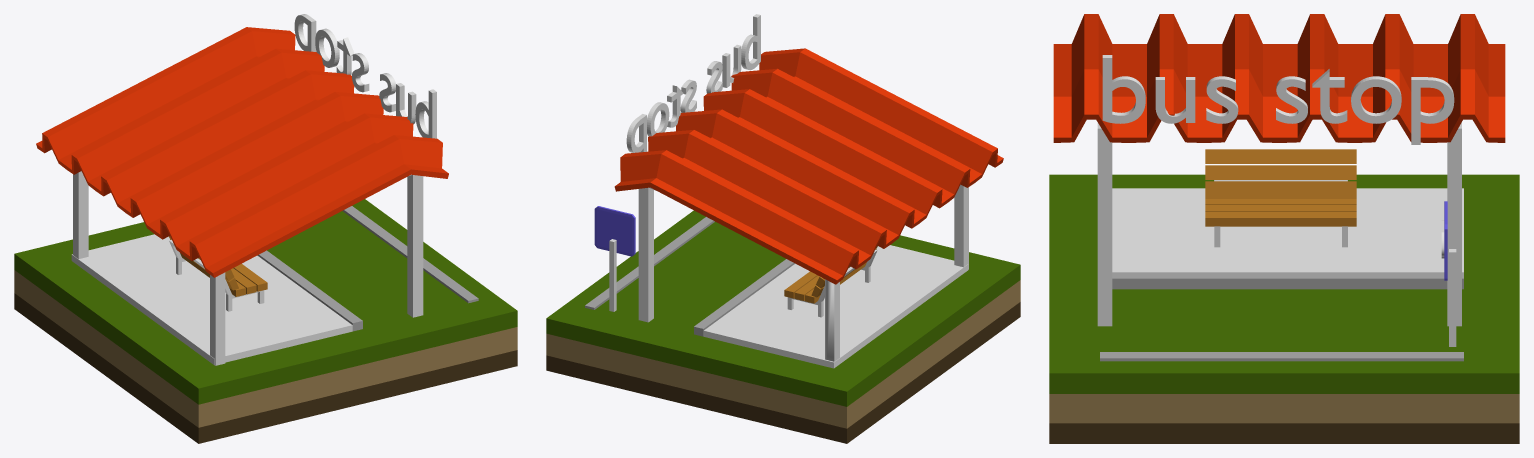
Rendered from BusStopPrefab.fbx.
The picture shows the model from 3 angles, left to right: view 1: azimuth 30°, elevation 25°; view 2: azimuth 150°, elevation 25°; view 3: azimuth 270°, elevation 25°; orthographic projection. The views are drawn at different scales.
Visible parts, largest first — view 1: Cube.077, bus stop ground, Cube.088, Cube.087, bus stop FONT, Cube.092, Cube.089, Cube.093, Cube.095; view 2: Cube.077, bus stop ground, Cube.088, Cube.087, bus stop FONT, Cube.091, Cube.092, Cube.089, Cube.093, Cube.090, Cube.095; view 3: bus stop ground, Cube.077, Cube.088, bus stop FONT, Cube.094, Cube.089, Cube.087, Cube.093, Cube.092, Cube.090, Cube.095.
Boxes of the visible parts, box(x1,y1,x2,y2) form: Cube.077: box(36, 27, 448, 277); bus stop ground: box(14, 199, 517, 443); Cube.088: box(71, 234, 352, 365); Cube.087: box(73, 171, 423, 365); bus stop FONT: box(294, 14, 436, 138); Cube.092: box(342, 206, 478, 303); Cube.089: box(257, 250, 362, 331); Cube.093: box(180, 253, 267, 296); Cube.095: box(169, 240, 264, 311); Cube.077: box(614, 48, 1003, 284); bus stop ground: box(546, 210, 1020, 443); Cube.088: box(703, 245, 968, 368); Cube.087: box(638, 184, 968, 361); bus stop FONT: box(626, 14, 760, 152); Cube.091: box(594, 206, 635, 256); Cube.092: box(585, 217, 714, 309); Cube.089: box(694, 259, 794, 336); Cube.093: box(784, 262, 866, 303); Cube.090: box(609, 239, 616, 311); Cube.095: box(787, 250, 877, 317); bus stop ground: box(1049, 174, 1519, 443); Cube.077: box(1053, 14, 1505, 142); Cube.088: box(1112, 188, 1463, 272); bus stop FONT: box(1102, 55, 1454, 144); Cube.094: box(1205, 149, 1356, 198); Cube.089: box(1112, 272, 1463, 289); Cube.087: box(1097, 122, 1461, 326); Cube.093: box(1205, 199, 1356, 226); Cube.092: box(1100, 352, 1463, 361); Cube.090: box(1449, 249, 1456, 346); Cube.095: box(1214, 180, 1347, 247).
Bounding box in the file's own units: 208 × 171 × 208.
